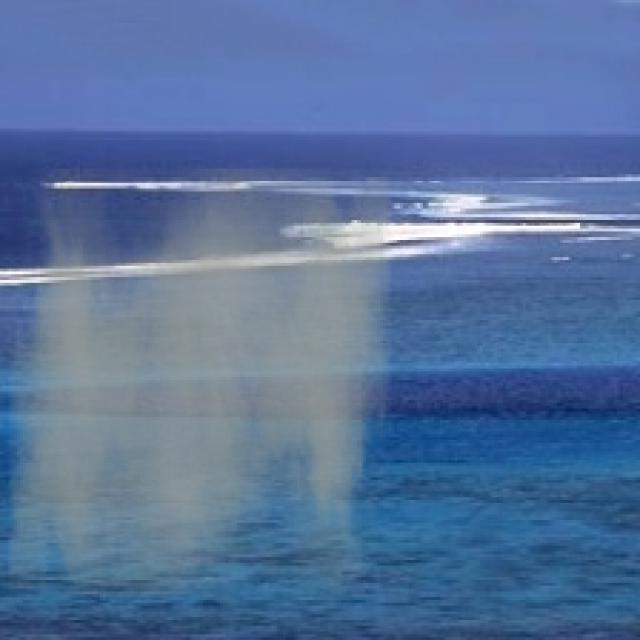smoke: (9, 169, 392, 594)
